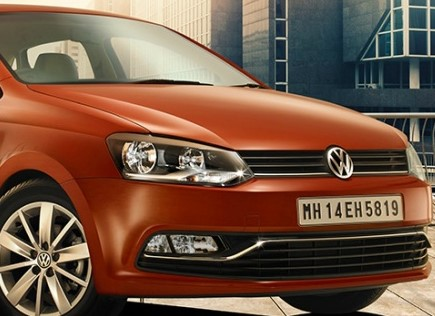MH14EH5819: (298, 195, 403, 226)
